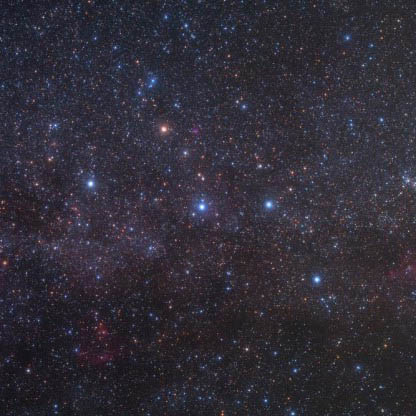Cassiopeia: (151, 118, 195, 169), (254, 190, 282, 229), (185, 190, 214, 220), (78, 170, 105, 199), (303, 266, 329, 292)
